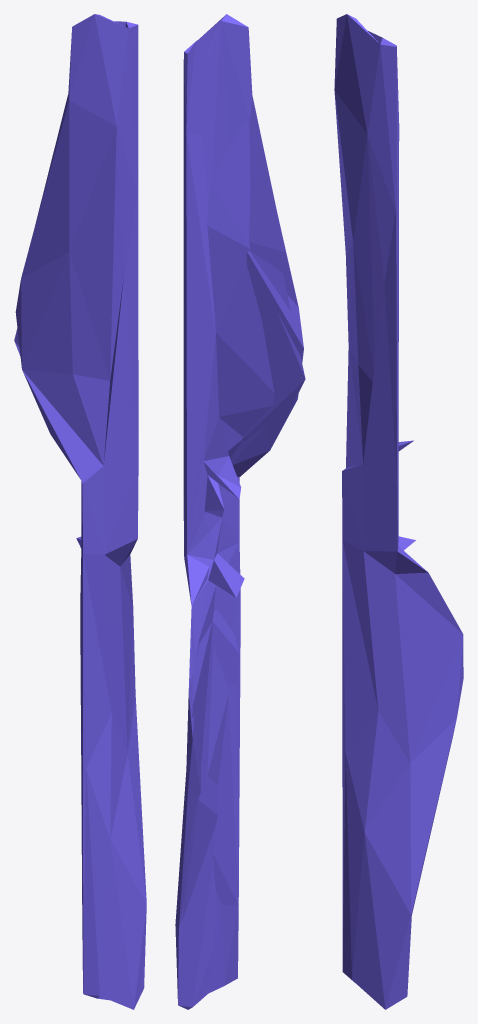
Rendered from propeller_cw_purple.dae.
The picture shows the model from 3 angles, left to right: view 1: azimuth 30°, elevation 25°; view 2: azimuth 210°, elevation 25°; view 3: azimuth 330°, elevation 25°; orthographic projection.
Visible parts, largest first — view 1: propeller_cw_purple; view 2: propeller_cw_purple; view 3: propeller_cw_purple.
Part boxes in pixels (x1,y1,x2,y2): propeller_cw_purple: (14,14,146,1009); propeller_cw_purple: (175,14,305,1009); propeller_cw_purple: (334,14,463,1009).
Size of the model in its own units: 0.2418 by 0.1589 by 2.
